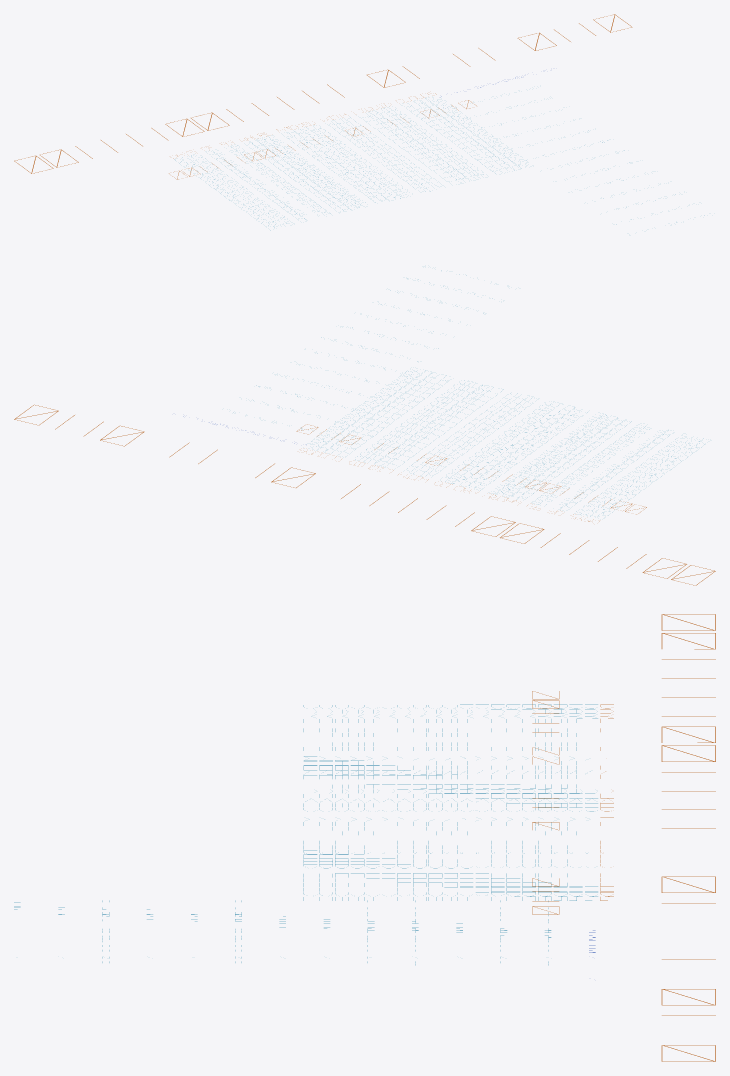
File: explore4fontmesh6.glb
3 views of the same model, one above another, from view 1: azimuth 30°, elevation 25°; view 2: azimuth 150°, elevation 25°; view 3: azimuth 270°, elevation 25° (orthographic). The views are drawn at different scales.
Parts seen in each view (by area): view 1: DO93_Typography_Mesh; view 2: DO93_Typography_Mesh; view 3: DO93_Typography_Mesh.
Boxes of the visible parts, box(x1,y1,x2,y2) form: DO93_Typography_Mesh: box(14, 14, 704, 230); DO93_Typography_Mesh: box(14, 270, 715, 585); DO93_Typography_Mesh: box(14, 614, 715, 1061).
Size of the model in its own units: 125 by 0.019 by 83.17.
